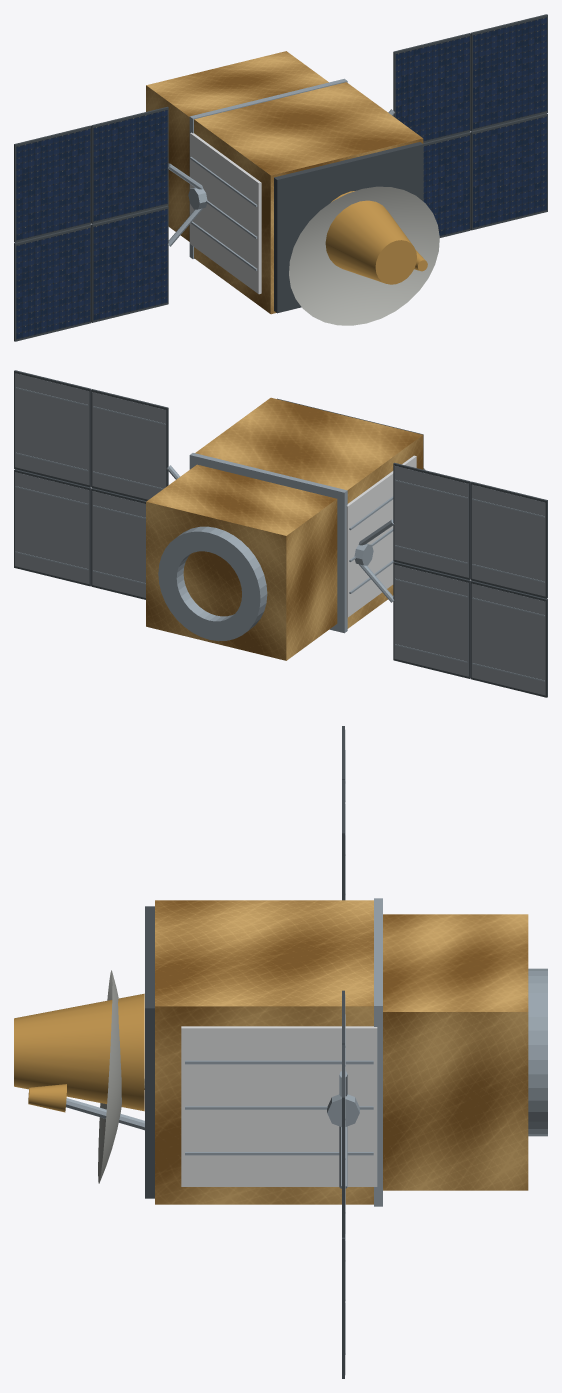
File: ref-kazsat-29230.glb
The picture shows the model from 3 angles, top to bottom: view 1: azimuth 30°, elevation 25°; view 2: azimuth 150°, elevation 25°; view 3: azimuth 270°, elevation 25°; orthographic projection. The views are drawn at different scales.
Visible parts, largest first — view 1: Solar cell panel (×8), Payload module, Deck-mounted reflector, Service module, Earth-facing deck, Radiator face, Solar panel frame (×7), Axial antenna horn, Module interface; view 2: Rear array substrate (×8), Service module, Payload module, Solar panel frame (×8), Launch adapter ring, Radiator face, Module interface; view 3: Service module, Payload module, Radiator face, Axial antenna horn, Launch adapter ring, Earth-facing deck, Deck-mounted reflector, Module interface, Radiator seam, Feed horn, Array drive.
Boxes of the visible parts, box(x1,y1,x2,y2) form: Solar cell panel (×8): box(16, 17, 546, 339); Payload module: box(194, 82, 423, 314); Deck-mounted reflector: box(289, 186, 439, 325); Service module: box(146, 51, 328, 241); Earth-facing deck: box(274, 142, 423, 313); Radiator face: box(190, 132, 261, 294); Solar panel frame (×7): box(14, 14, 547, 341); Axial antenna horn: box(325, 191, 416, 284); Module interface: box(189, 78, 347, 258); Rear array substrate (×8): box(15, 373, 545, 695); Service module: box(146, 464, 337, 660); Payload module: box(195, 397, 423, 628); Solar panel frame (×8): box(14, 370, 547, 697); Launch adapter ring: box(158, 526, 267, 641); Radiator face: box(346, 455, 416, 617); Module interface: box(189, 453, 347, 633); Service module: box(383, 914, 528, 1190); Payload module: box(155, 900, 373, 1204); Radiator face: box(181, 1026, 377, 1186); Axial antenna horn: box(14, 993, 144, 1111); Launch adapter ring: box(528, 968, 547, 1136); Earth-facing deck: box(145, 906, 154, 1198); Deck-mounted reflector: box(98, 970, 121, 1183); Module interface: box(374, 898, 382, 1206); Radiator seam: box(185, 1060, 373, 1064); Feed horn: box(28, 1084, 66, 1112); Array drive: box(327, 1094, 359, 1126).
Size of the model in its own units: 6.99 by 2.47 by 4.25.
8 materials, 2 textured.
